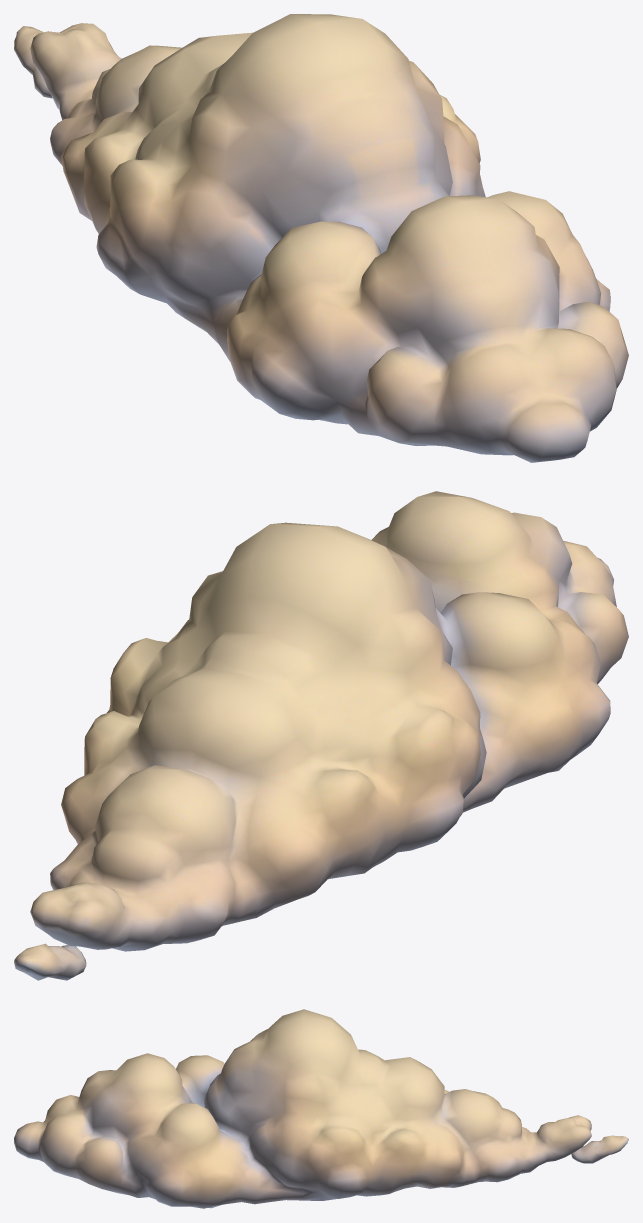
The model's file is cloud-web.glb.
3 views of the same model, one above another, from view 1: azimuth 30°, elevation 25°; view 2: azimuth 150°, elevation 25°; view 3: azimuth 270°, elevation 25° (orthographic). The views are drawn at different scales.
Visible parts, largest first — view 1: tripo_node_2c382d22-f30c-4b92-ac5f-cfe56d631ba2; view 2: tripo_node_2c382d22-f30c-4b92-ac5f-cfe56d631ba2; view 3: tripo_node_2c382d22-f30c-4b92-ac5f-cfe56d631ba2.
Part boxes in pixels (x1,y1,x2,y2): tripo_node_2c382d22-f30c-4b92-ac5f-cfe56d631ba2: [14, 14, 628, 462]; tripo_node_2c382d22-f30c-4b92-ac5f-cfe56d631ba2: [14, 491, 628, 980]; tripo_node_2c382d22-f30c-4b92-ac5f-cfe56d631ba2: [14, 1009, 628, 1208].
Size of the model in its own units: 0.3659 by 0.3033 by 1.
Materials: 1 (1 with a texture image).
